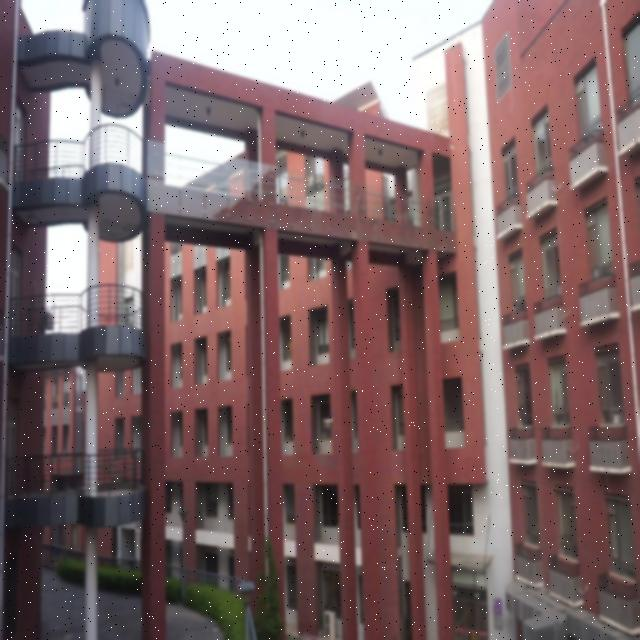UAV: (324, 418, 334, 427)
